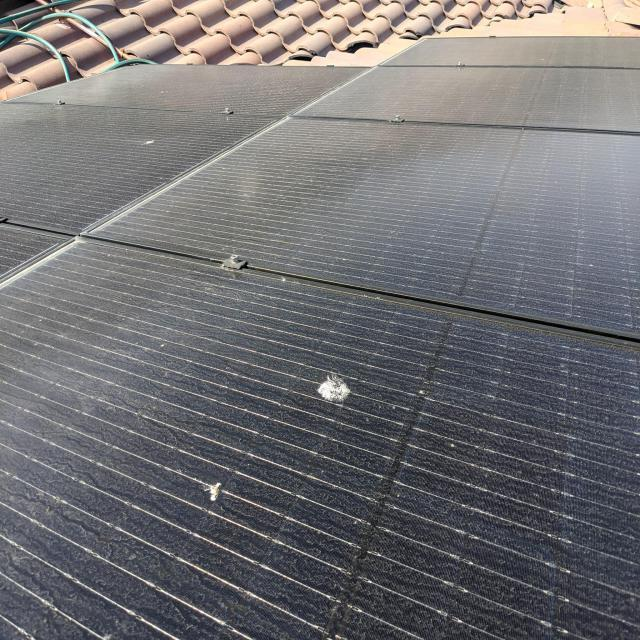soiled: (0, 296, 629, 640), (0, 107, 231, 229)
